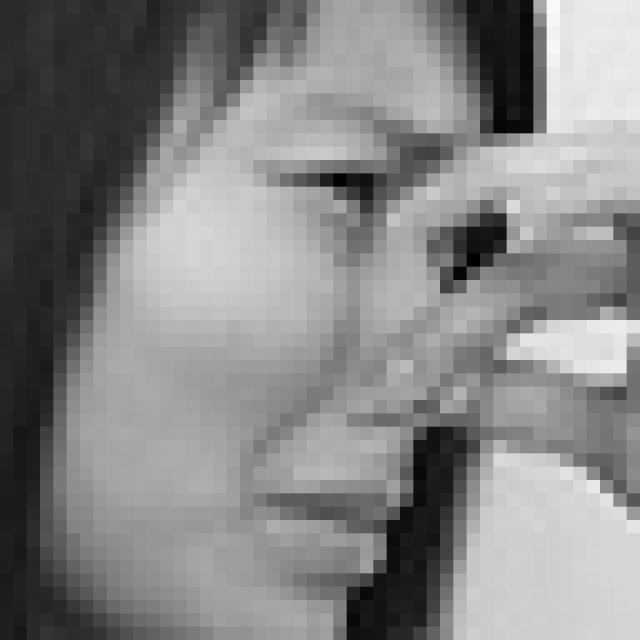disgust: (175, 88, 502, 585)
